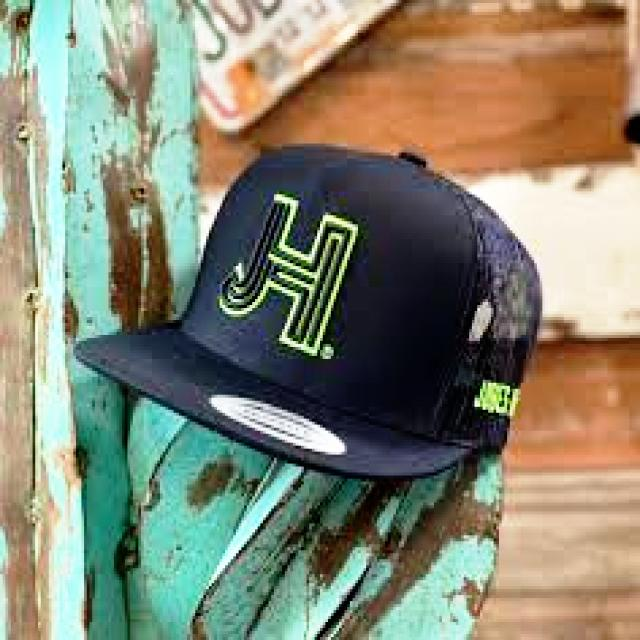TOPI: (68, 134, 545, 478)
